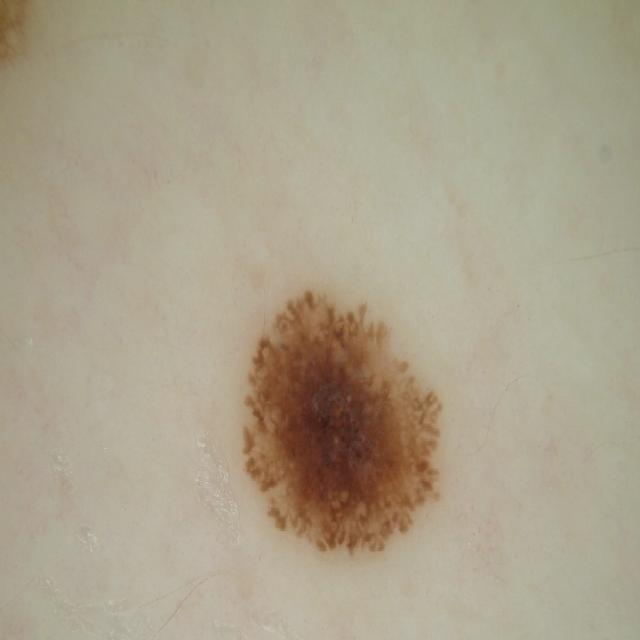Melanoma: (218, 256, 492, 564)
